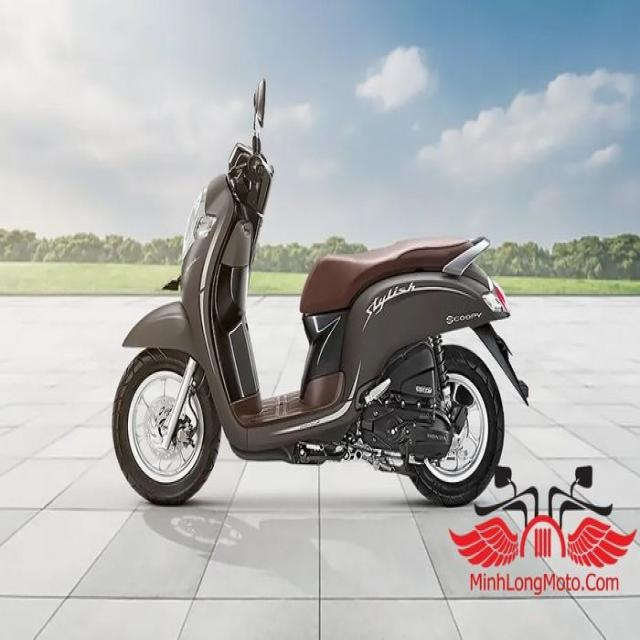Motorcycle: (109, 75, 530, 512)
